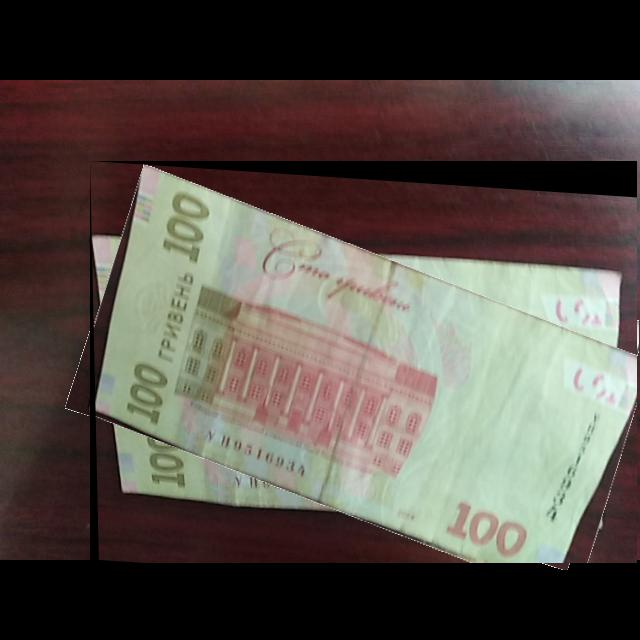100uah: (95, 164, 638, 564)
